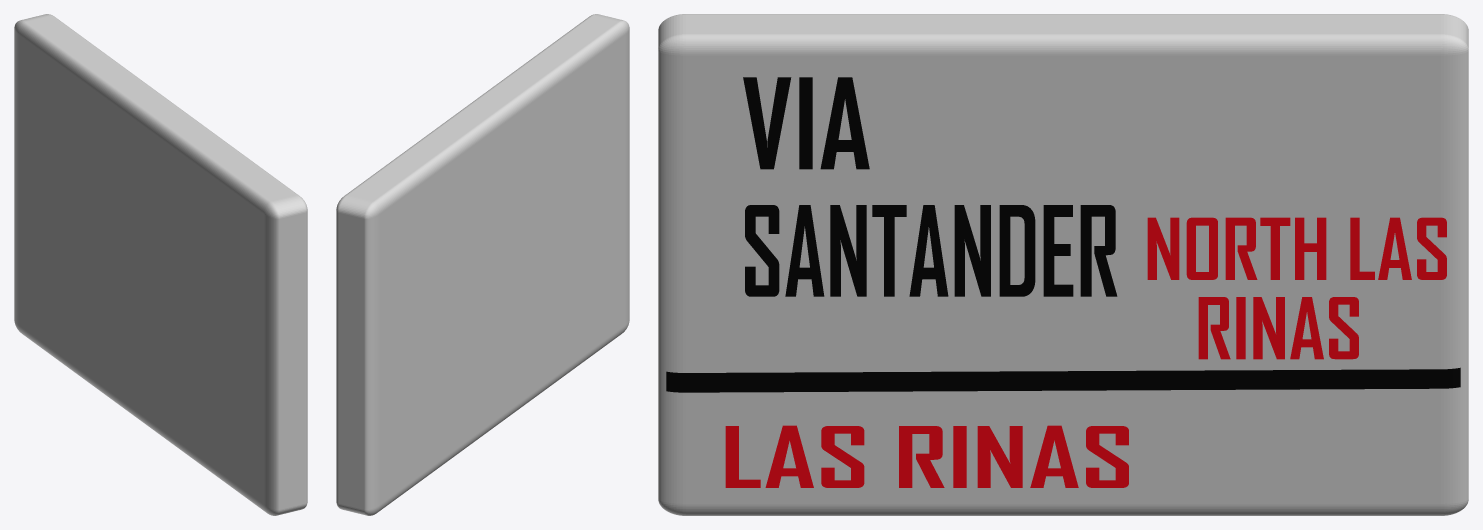
Rendered from uk_styled_street_sign_15.fbx.
3 renders of one model, left to right at view 1: azimuth 30°, elevation 25°; view 2: azimuth 150°, elevation 25°; view 3: azimuth 270°, elevation 25°, orthographic. The views are drawn at different scales.
Parts seen in each view (by area): view 1: Cube; view 2: Cube; view 3: Cube, Text.001, Text.002, Text.003, Text, Text.004.
Boxes of the visible parts, x1,y1,x2,y2 form: Cube: (14,14,307,515); Cube: (336,14,629,515); Cube: (658,14,1468,515); Text.001: (745,205,1117,296); Text.002: (725,425,1128,487); Text.003: (1147,217,1446,279); Text: (743,77,869,169); Text.004: (1198,297,1358,359).
Size of the model in its own units: 1.63 by 11.91 by 18.18.
